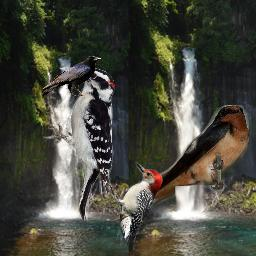Crow: (40, 55, 101, 96)
Swallow: (107, 105, 249, 221)
Woodpecker: (42, 63, 116, 221), (103, 160, 165, 251)
